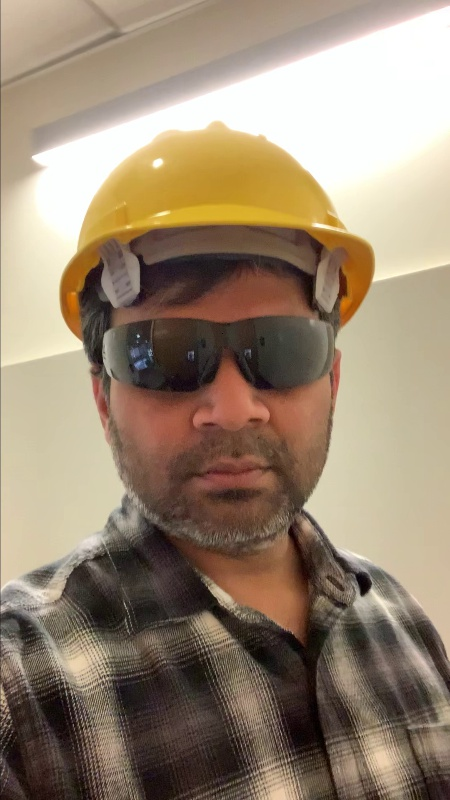glasses: (104, 318, 336, 388)
helmet: (65, 123, 362, 242)
